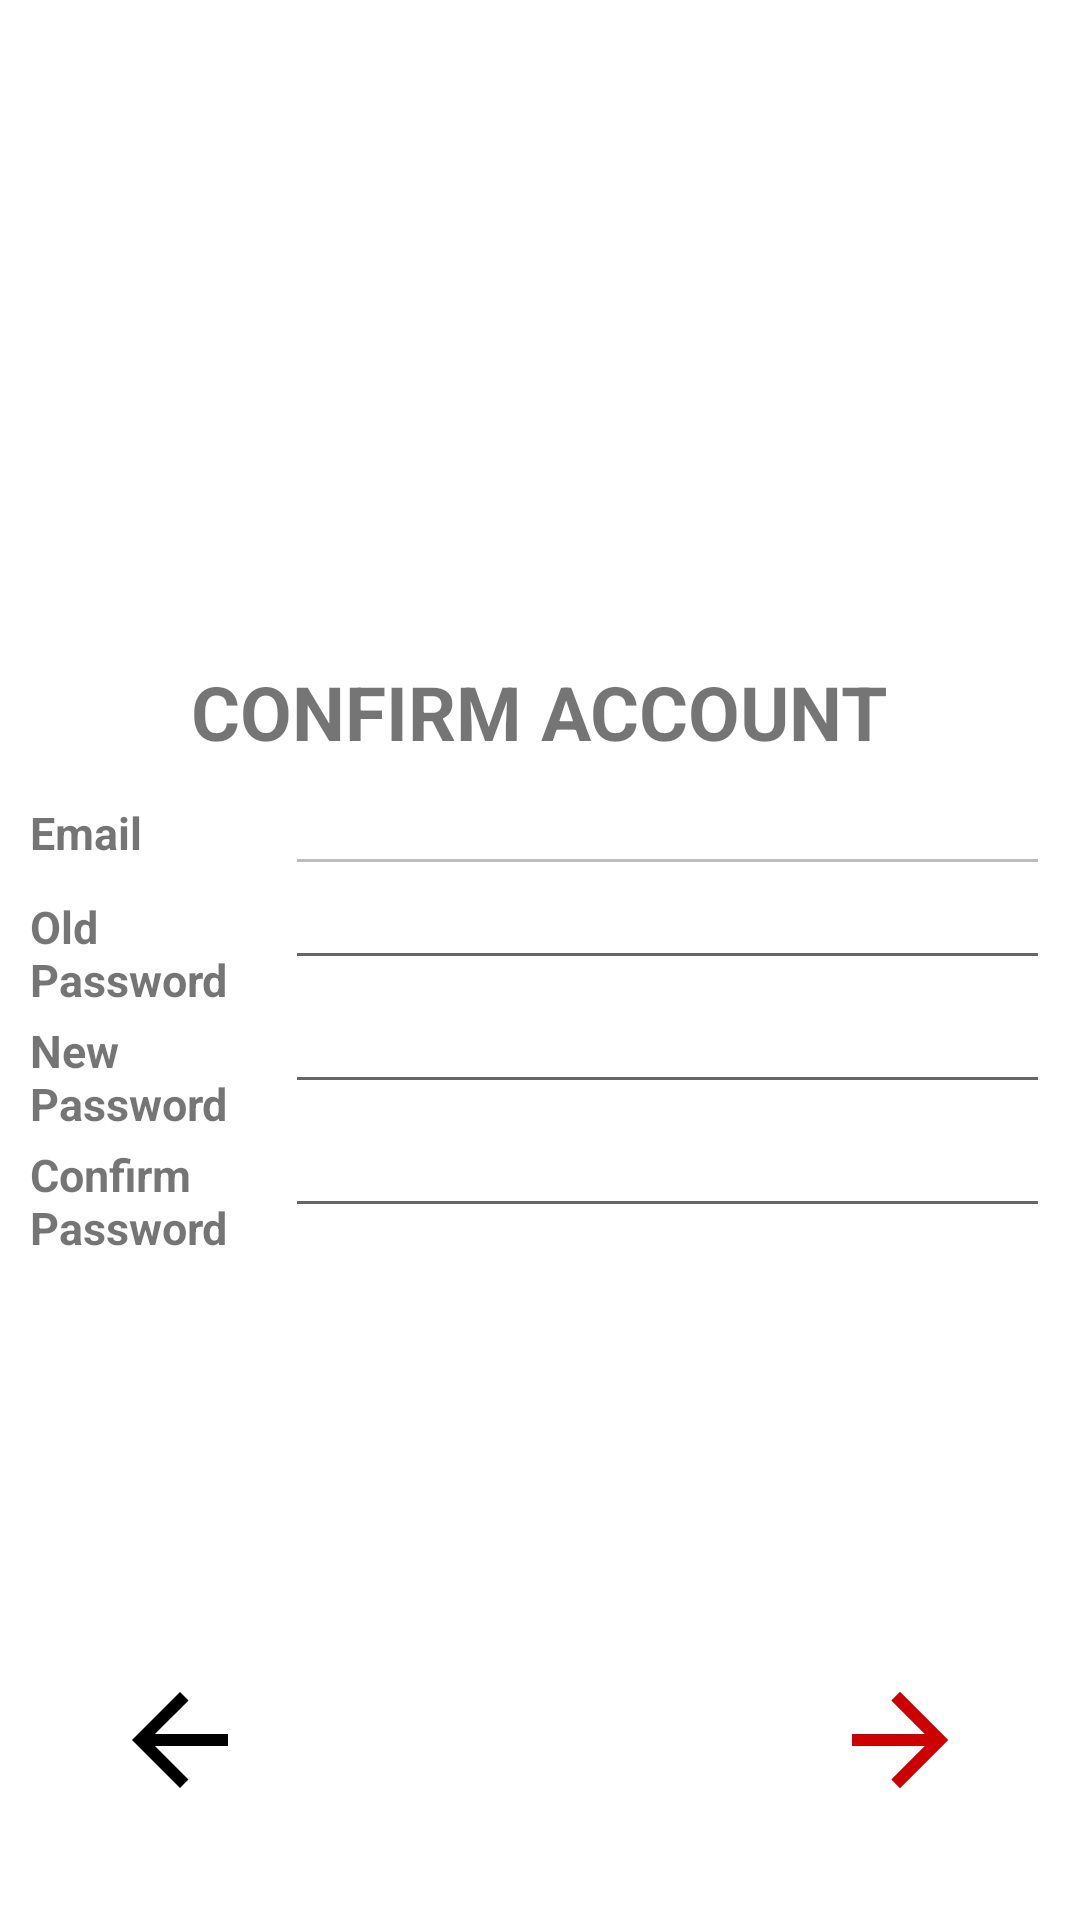

Icons on this 1080w x 1920h Android screen, each with the point to tap as point (x, y):
arrow back: point (180, 1740)
